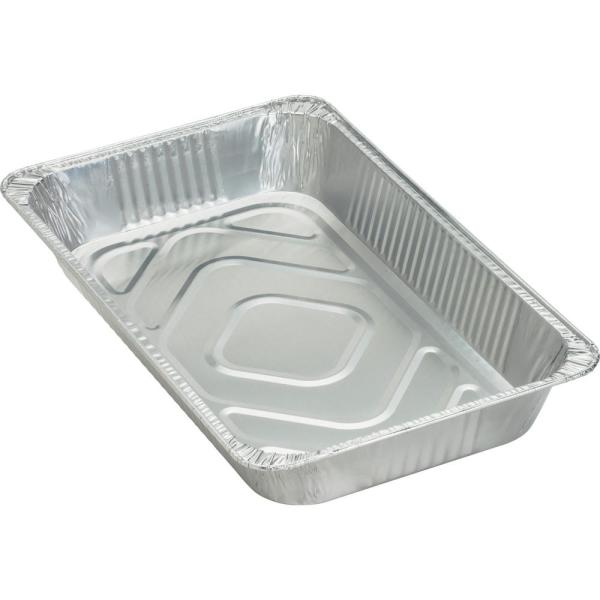metal: (1, 89, 600, 506)
